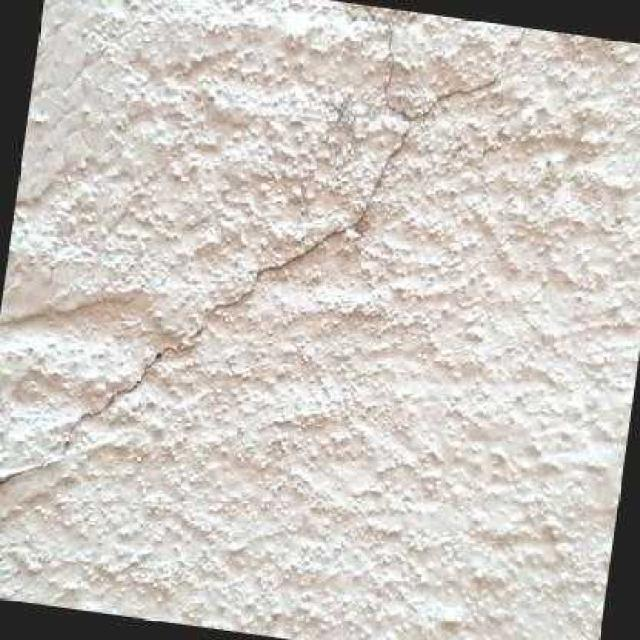D00: (0, 1, 530, 493)
